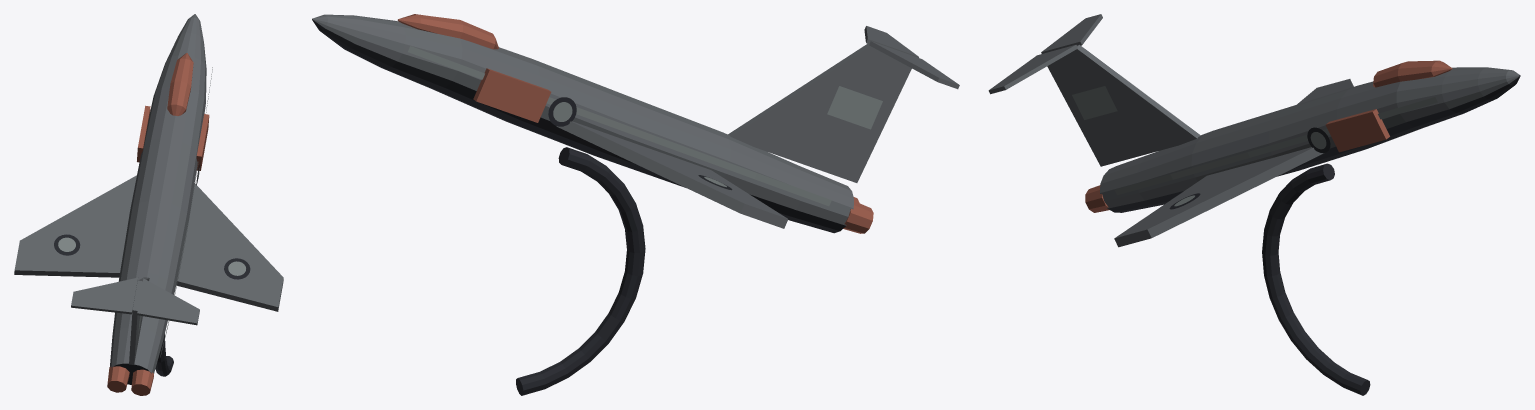
The model's file is cyxd_h14_voodoo.gltf.
The picture shows the model from 3 angles, left to right: view 1: azimuth 30°, elevation 25°; view 2: azimuth 150°, elevation 25°; view 3: azimuth 270°, elevation 25°; orthographic projection. The views are drawn at different scales.
Visible parts, largest first — view 1: cyxd_h14_voodoo; view 2: cyxd_h14_voodoo; view 3: cyxd_h14_voodoo.
Part boxes in pixels (box(x1,y1,x2,y2)): cyxd_h14_voodoo: box(14, 14, 283, 395); cyxd_h14_voodoo: box(312, 14, 959, 395); cyxd_h14_voodoo: box(988, 14, 1520, 395).
Size of the model in its own units: 15.28 by 14.49 by 18.57.
